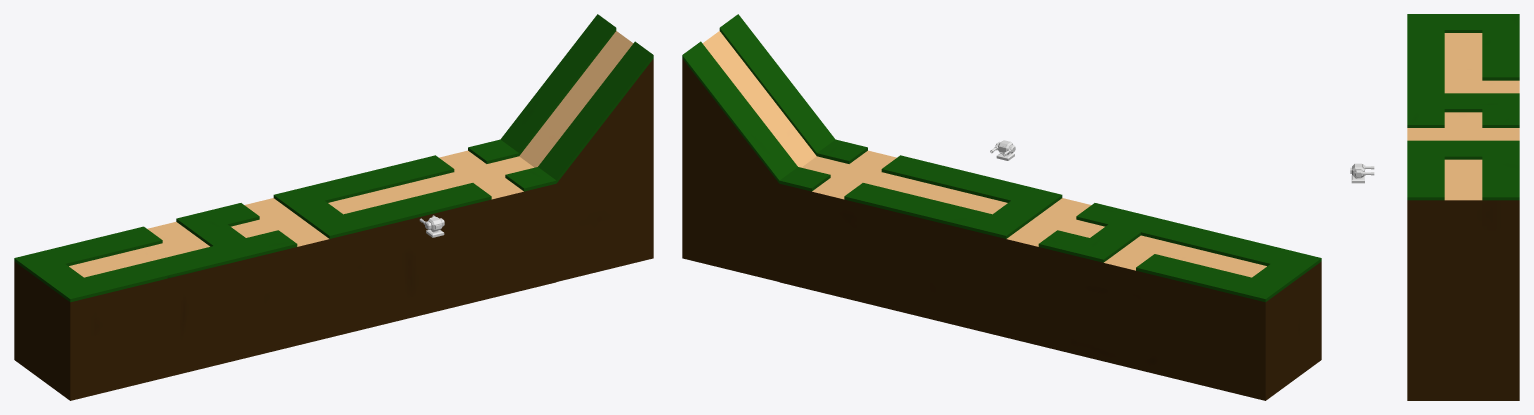
The model's file is end.fbx.
The picture shows the model from 3 angles, left to right: view 1: azimuth 30°, elevation 25°; view 2: azimuth 150°, elevation 25°; view 3: azimuth 270°, elevation 25°; orthographic projection.
Parts seen in each view (by area): view 1: Cube.008, Cube.009, Cube.007, Cube.005, Cube.006, Cube.004; view 2: Cube.008, Cube.009, Cube.007, Cube.004, Cube.005, Cube.006; view 3: Cube.008, Cube.009, Cube.007, Cube.006, Cube.004.
Part boxes in pixels (box(x1,y1,x2,y2)): Cube.008: box(500, 14, 653, 281); Cube.009: box(14, 234, 167, 400); Cube.007: box(112, 210, 264, 376); Cube.005: box(403, 139, 556, 305); Cube.006: box(209, 187, 361, 353); Cube.004: box(306, 163, 459, 329); Cube.008: box(682, 14, 835, 281); Cube.009: box(1168, 234, 1321, 400); Cube.007: box(1071, 210, 1223, 376); Cube.004: box(876, 163, 1029, 329); Cube.005: box(779, 139, 932, 305); Cube.006: box(974, 187, 1126, 353); Cube.008: box(1407, 197, 1519, 400); Cube.009: box(1407, 14, 1519, 64); Cube.007: box(1407, 61, 1519, 112); Cube.006: box(1407, 109, 1519, 159); Cube.004: box(1407, 156, 1519, 200).
Bounding box in the file's own units: 18000 × 6000 × 4518.
Materials: 6 (5 with a texture image).
